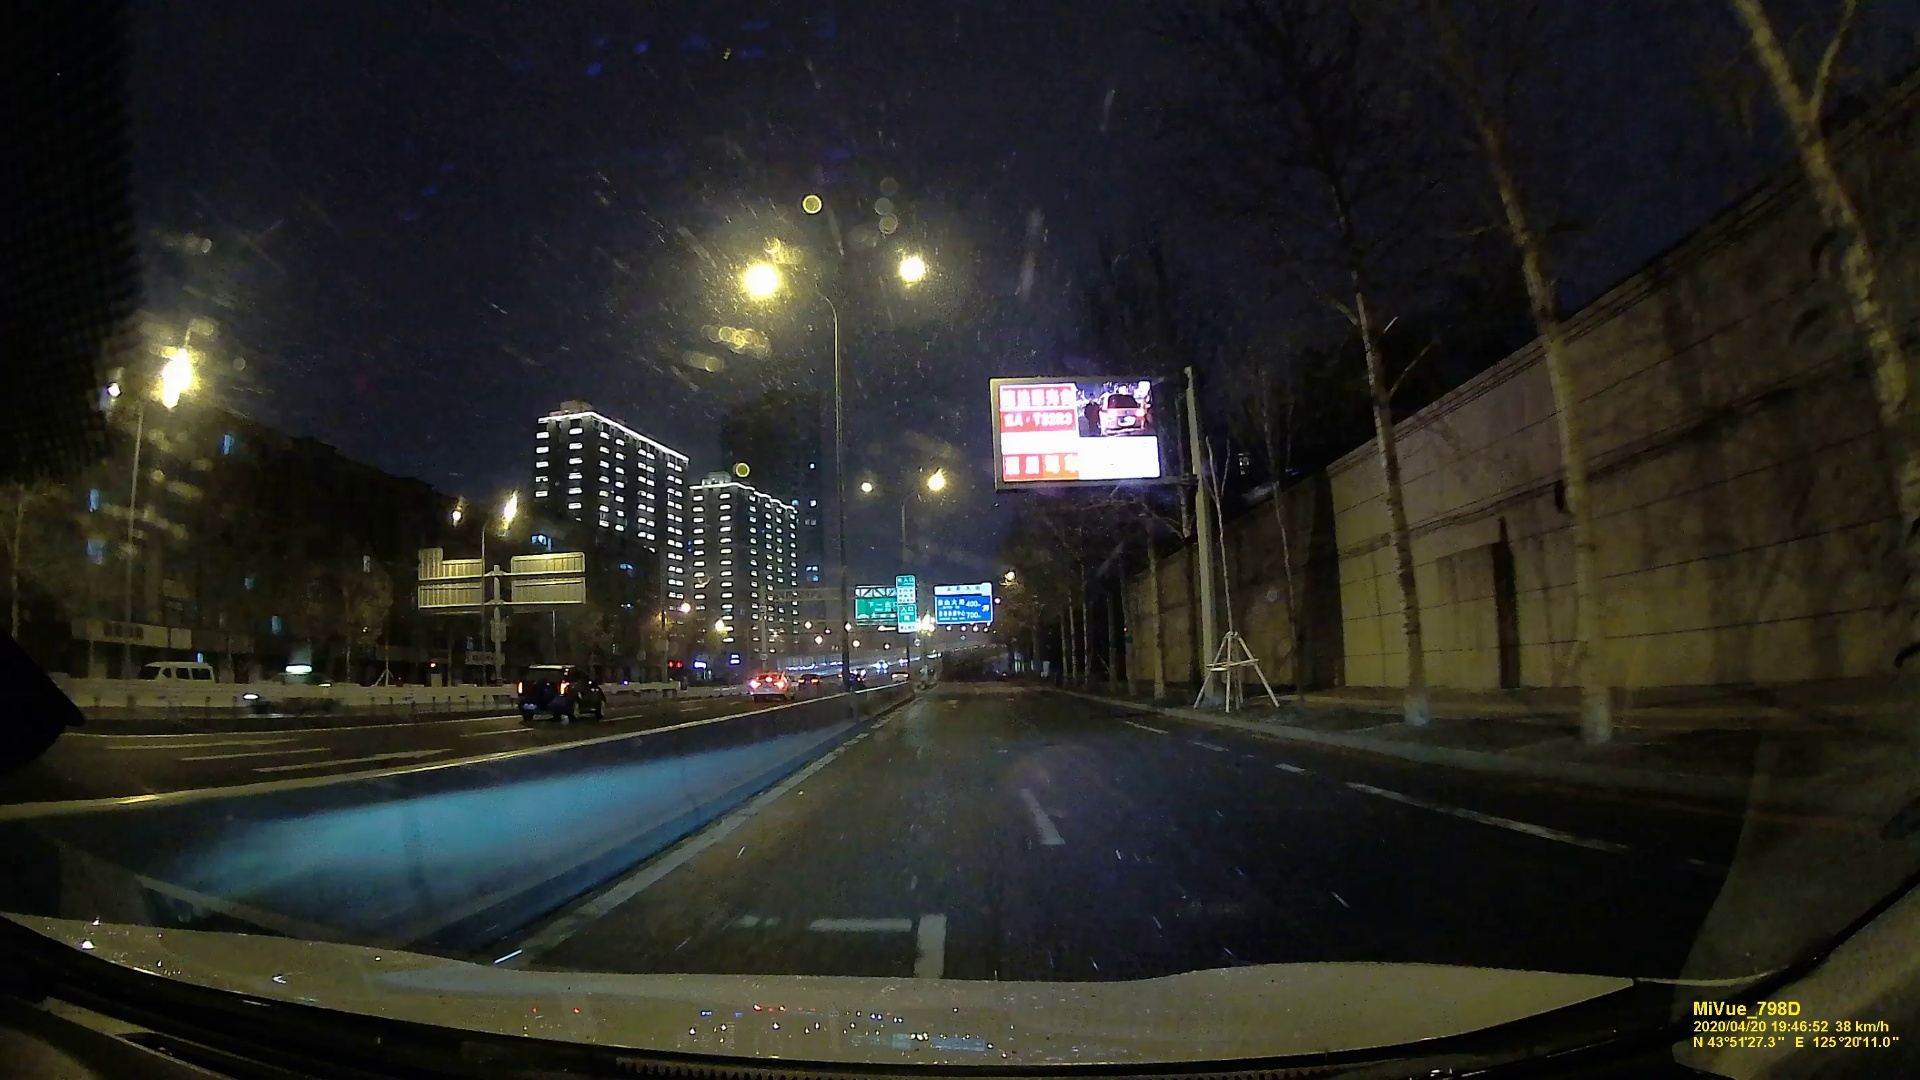minibus: (127, 658, 218, 691)
traffic_sign: (855, 585, 914, 624), (934, 583, 989, 621)
vehicle: (510, 665, 611, 723), (752, 673, 794, 698), (798, 673, 822, 691)
